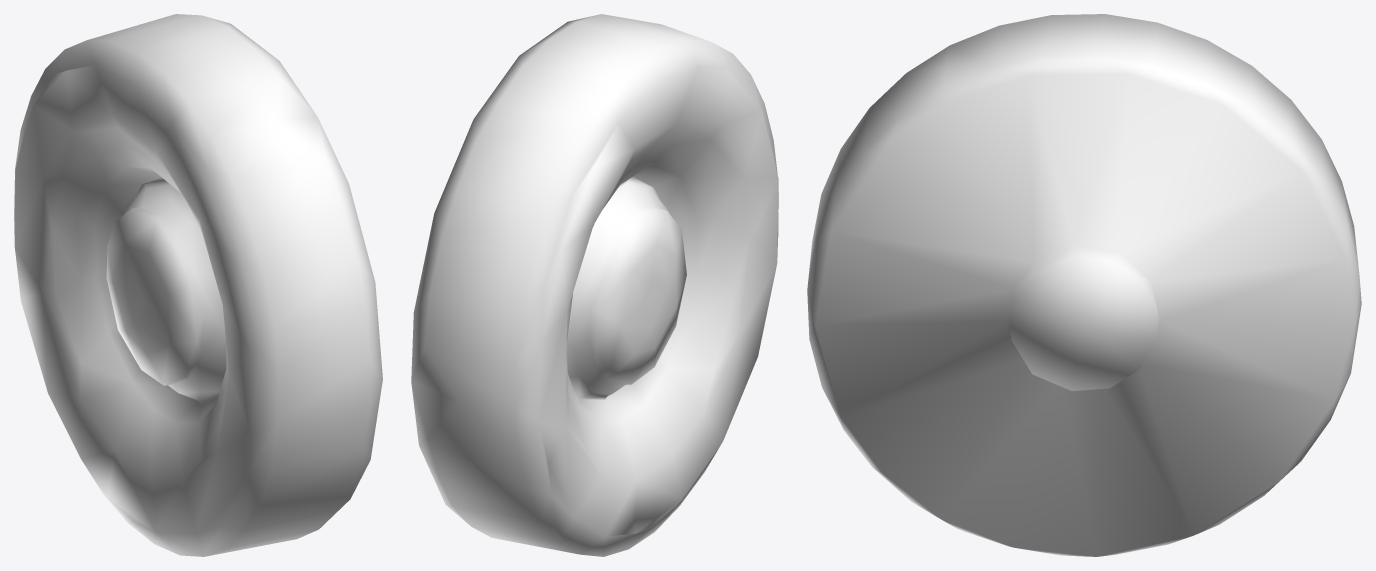
The picture shows the model from 3 angles, left to right: view 1: azimuth 30°, elevation 25°; view 2: azimuth 150°, elevation 25°; view 3: azimuth 270°, elevation 25°; orthographic projection. The views are drawn at different scales.
Size of the model in its own units: 0.2082 by 0.6614 by 0.6628.
Materials: 1 (1 with a texture image).
